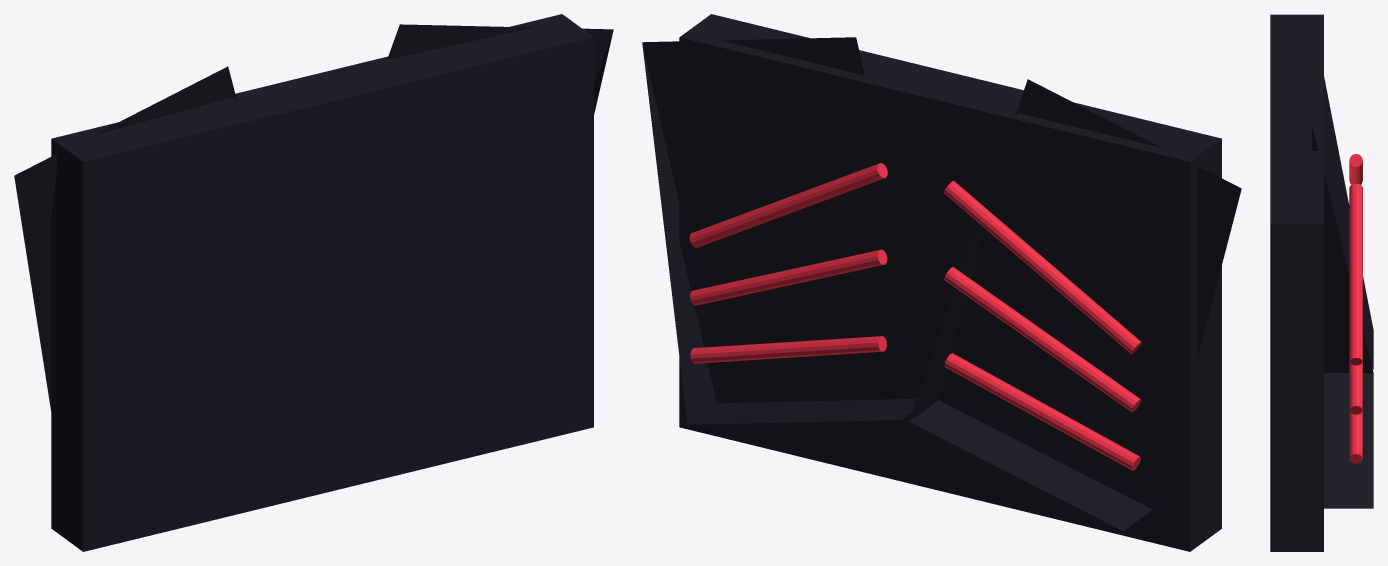
File: AntiArmorUpperTorso.obj
The picture shows the model from 3 angles, left to right: view 1: azimuth 30°, elevation 25°; view 2: azimuth 150°, elevation 25°; view 3: azimuth 270°, elevation 25°; orthographic projection. The views are drawn at different scales.
Visible parts, largest first — view 1: AntiArmorUpperTorso; view 2: AntiArmorUpperTorso; view 3: AntiArmorUpperTorso.
Part boxes in pixels (x1,y1,x2,y2): AntiArmorUpperTorso: [14, 14, 613, 551]; AntiArmorUpperTorso: [642, 14, 1241, 551]; AntiArmorUpperTorso: [1270, 14, 1373, 551].
Size of the model in its own units: 2.17 by 1.48 by 0.385.
